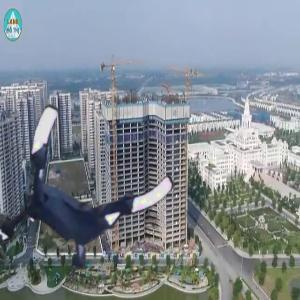drone: (4, 119, 168, 283)
